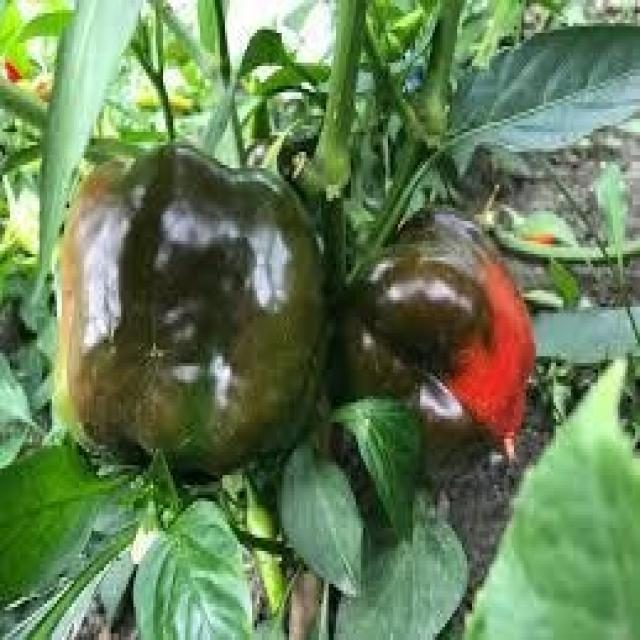bell_pepper: (50, 129, 329, 493), (346, 185, 543, 508)
